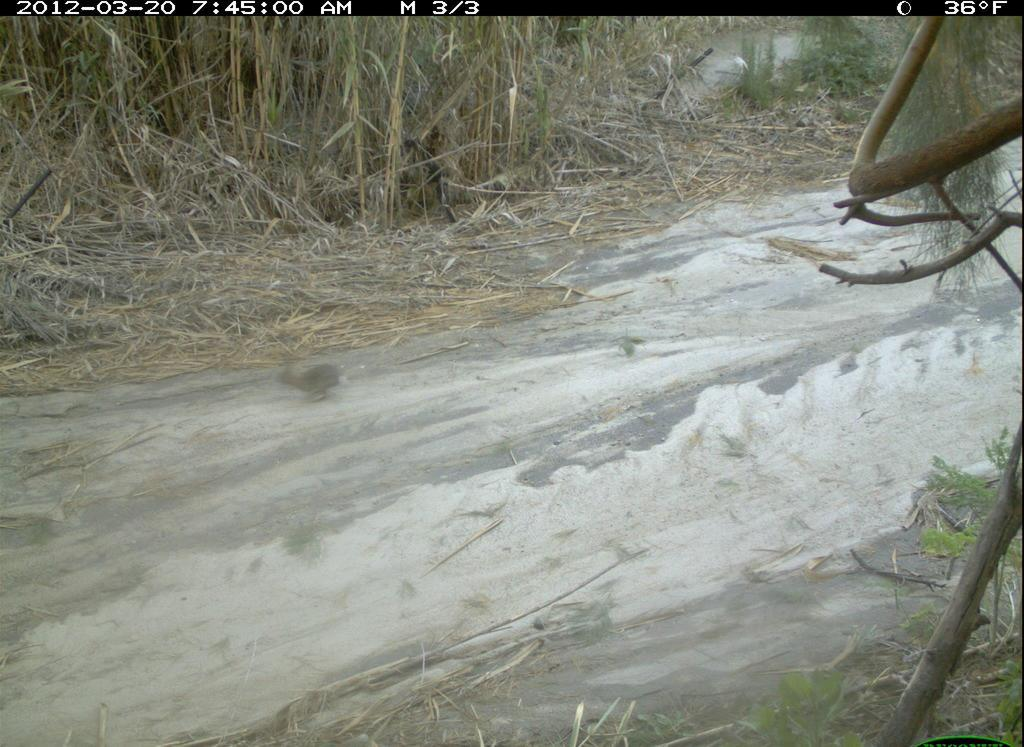rabbit: (271, 359, 349, 405)
